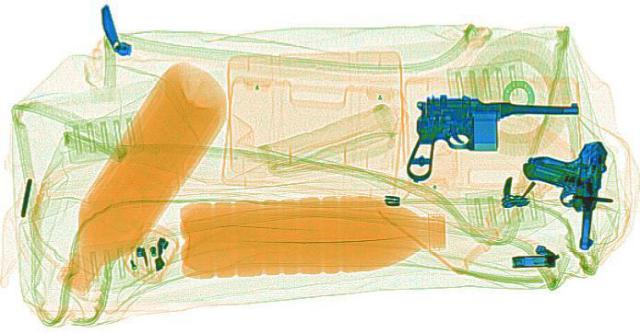Gun: (403, 92, 582, 183), (510, 138, 610, 249)
